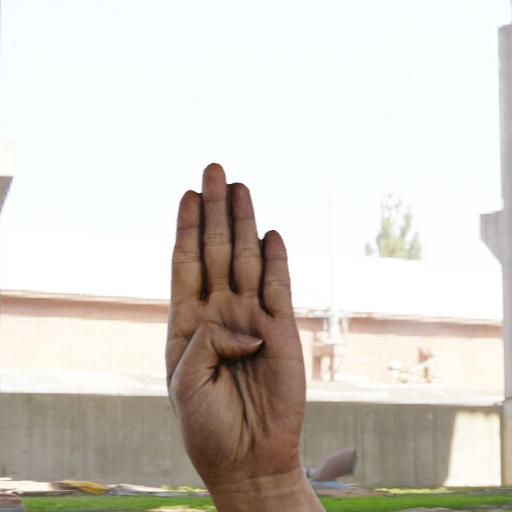B: (142, 151, 324, 512)
